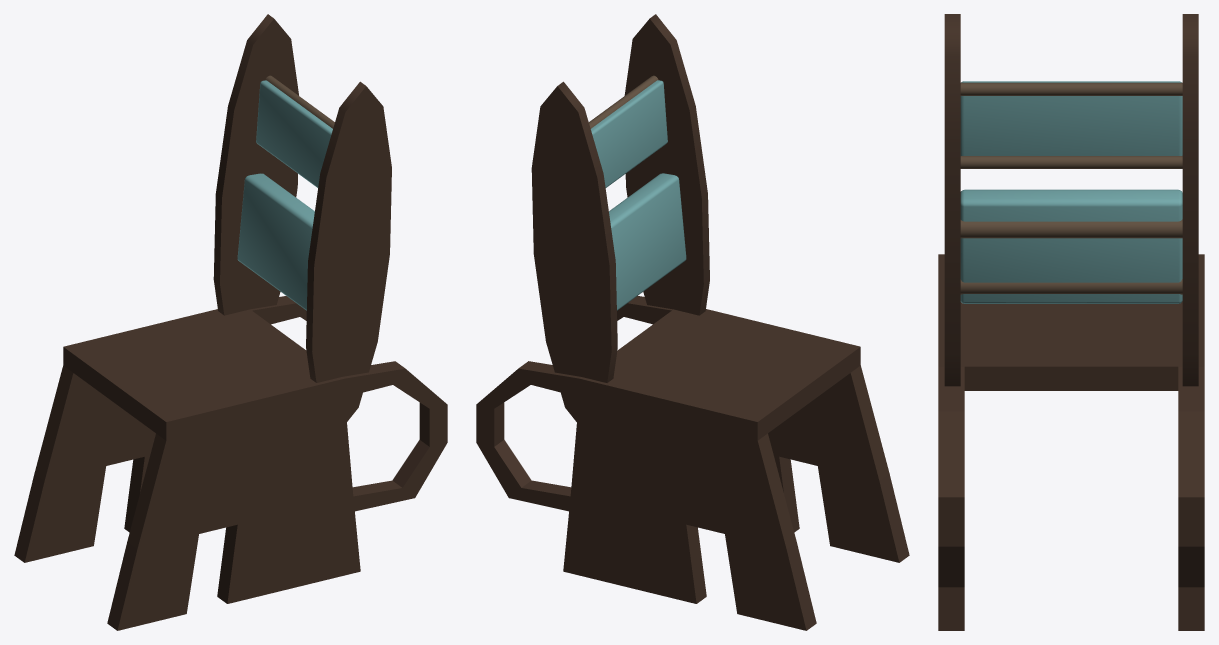
The model's file is Modé_Chaise.FBX.
3 renders of one model, left to right at view 1: azimuth 30°, elevation 25°; view 2: azimuth 150°, elevation 25°; view 3: azimuth 270°, elevation 25°, orthographic. The views are drawn at different scales.
Parts seen in each view (by area): view 1: Chaise; view 2: Chaise; view 3: Chaise.
Part boxes in pixels (left/top/right/bottom): Chaise: left=14, top=14, right=447, bottom=630; Chaise: left=476, top=14, right=909, bottom=630; Chaise: left=938, top=14, right=1204, bottom=630.
Bounding box in the file's own units: 58.25 × 81.23 × 31.5.
